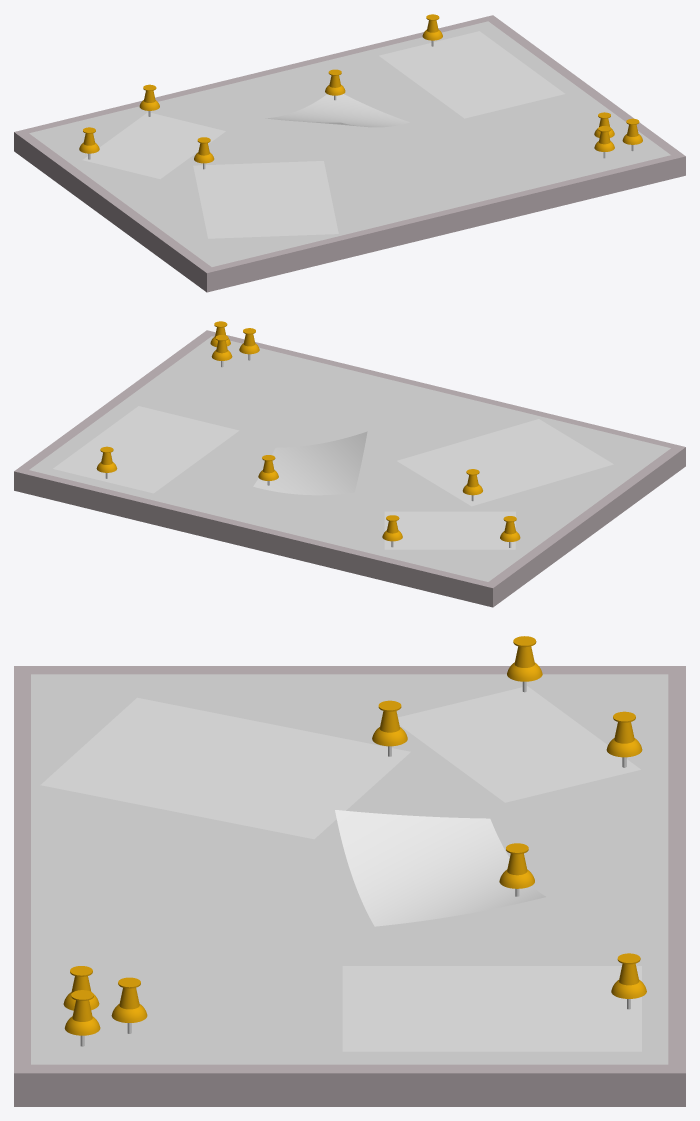
Rendered from Cork Board Fin.fbx.
3 views of the same model, one above another, from view 1: azimuth 30°, elevation 25°; view 2: azimuth 150°, elevation 25°; view 3: azimuth 270°, elevation 25° (orthographic). The views are drawn at different scales.
Parts seen in each view (by area): view 1: Cork board, Frame, Plane, TDL, Photo, Sticky Note; view 2: Cork board, Frame, Plane, TDL, Sticky Note, Photo; view 3: Cork board, Frame, Plane, TDL, Sticky Note, Photo, Sphere.010, Sphere.008, Sphere.011, Sphere.009, Sphere.003, Sphere.007 (+2 smaller).
Part boxes in pixels (left/top/right/bottom): Cork board: left=29, top=21, right=670, bottom=266; Frame: left=14, top=15, right=685, bottom=292; Plane: left=193, top=161, right=338, bottom=238; TDL: left=379, top=31, right=564, bottom=118; Photo: left=83, top=112, right=225, bottom=178; Sticky Note: left=265, top=94, right=409, bottom=127; Cork board: left=29, top=336, right=670, bottom=581; Frame: left=14, top=330, right=685, bottom=607; Plane: left=397, top=419, right=613, bottom=506; TDL: left=53, top=406, right=238, bottom=493; Sticky Note: left=253, top=431, right=367, bottom=495; Photo: left=384, top=511, right=515, bottom=549; Cork board: left=31, top=674, right=668, bottom=1064; Frame: left=14, top=666, right=685, bottom=1106; Plane: left=40, top=697, right=410, bottom=838; TDL: left=342, top=966, right=641, bottom=1051; Sticky Note: left=335, top=810, right=545, bottom=926; Photo: left=398, top=686, right=640, bottom=802; Sphere.010: left=64, top=990, right=100, bottom=1046; Sphere.008: left=507, top=636, right=542, bottom=692; Sphere.011: left=111, top=977, right=147, bottom=1033; Sphere.009: left=606, top=711, right=642, bottom=767; Sphere.003: left=611, top=953, right=646, bottom=1009; Sphere.007: left=372, top=700, right=407, bottom=756.
Size of the model in its own units: 1227 by 117 by 856.
